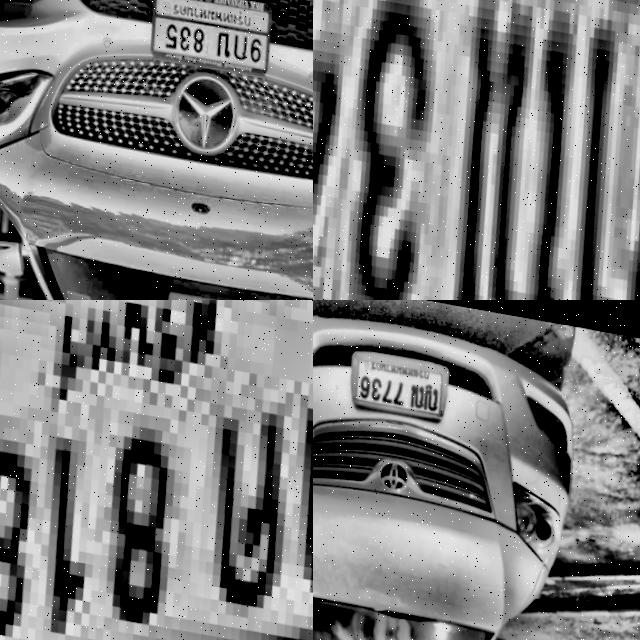license-plate: (0, 300, 313, 640), (313, 0, 640, 300), (138, 0, 276, 76), (342, 346, 453, 425)
